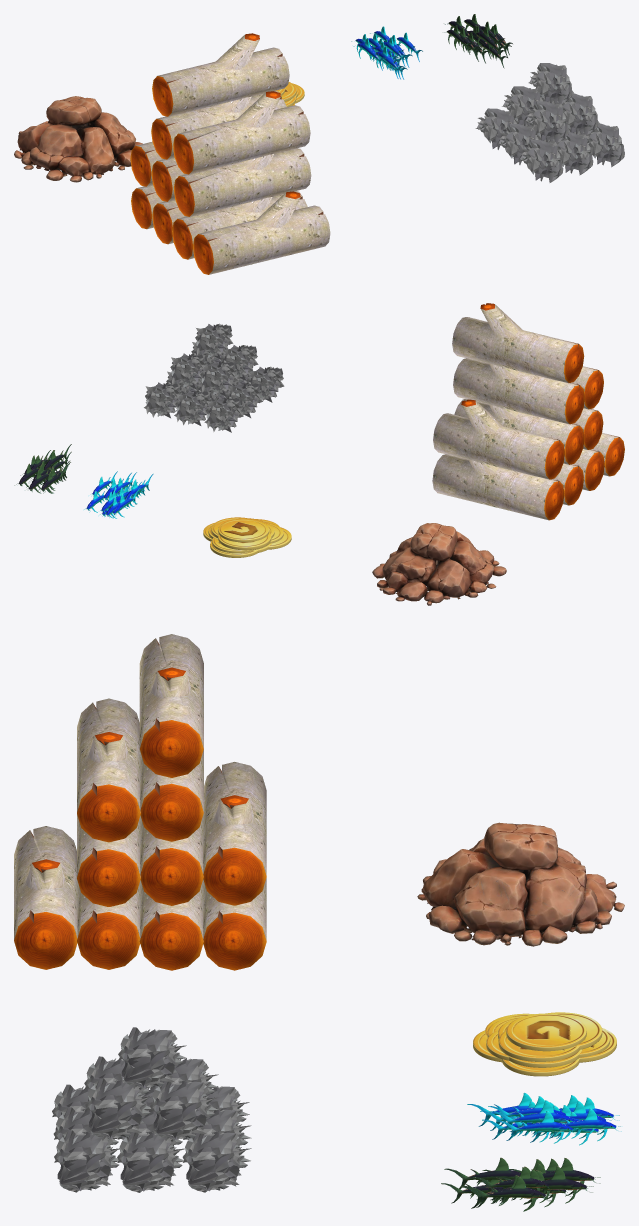
The model's file is Building3Whole_INIT.glb.
The picture shows the model from 3 angles, top to bottom: view 1: azimuth 30°, elevation 25°; view 2: azimuth 150°, elevation 25°; view 3: azimuth 270°, elevation 25°; orthographic projection. The views are drawn at different scales.
Parts seen in each view (by area): view 1: Building3Whole_INIT; view 2: Building3Whole_INIT; view 3: Building3Whole_INIT.
Part boxes in pixels (left/top/right/bottom): Building3Whole_INIT: left=14, top=14, right=624, bottom=274; Building3Whole_INIT: left=14, top=303, right=624, bottom=605; Building3Whole_INIT: left=14, top=634, right=624, bottom=1211.
Size of the model in its own units: 3.91 by 1.43 by 2.85.
Materials: 8 (7 with a texture image).
